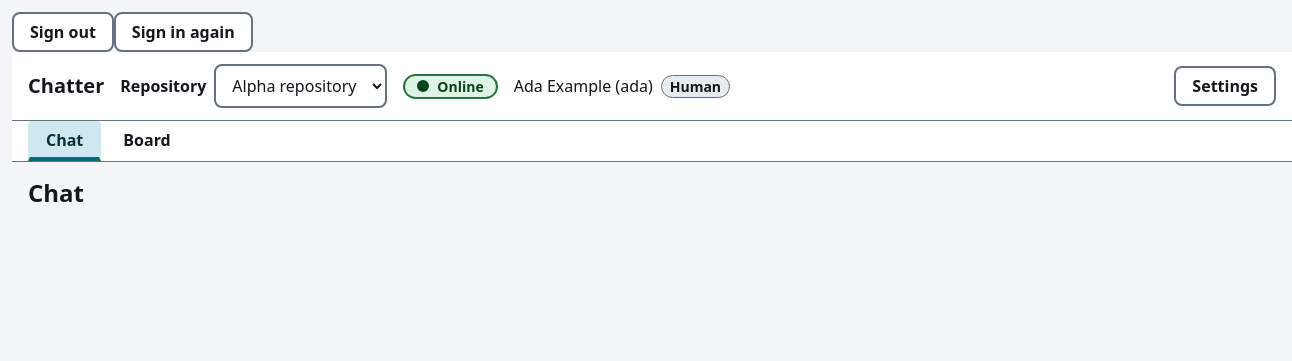
Test case: a new sign-in in the same page › opens Chat without rendering, even once, the view the previous session had open
The width and height of the screenshot is (1292, 361).
Click the button "Board".
click(147, 141)  # box [105, 121, 189, 161]
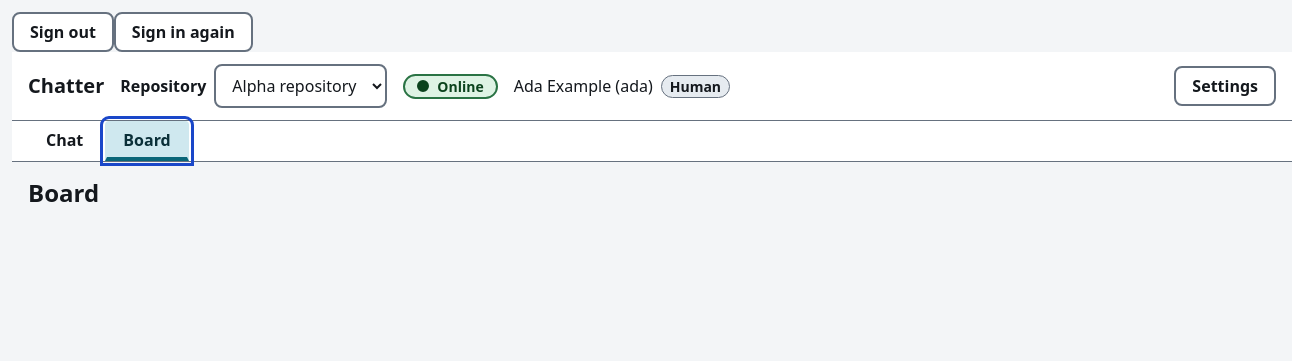
Expected: the heading reads "Board", [28, 176, 99, 209]
Click the button "Sign out".
click(63, 32)  # box [12, 12, 114, 52]
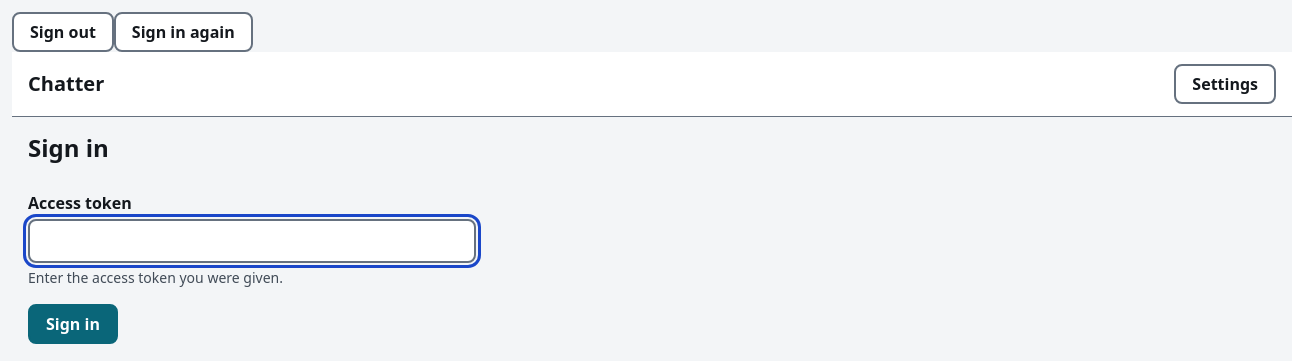
Expected: the heading reads "Sign in", [28, 131, 109, 164]
Click the button "Sign in again".
click(183, 32)  # box [114, 12, 253, 52]
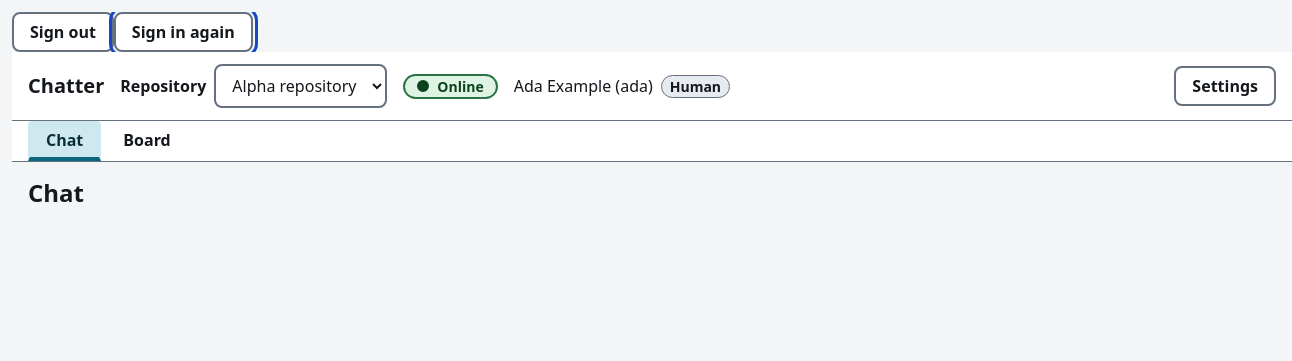
Expected: the heading reads "Chat", [28, 176, 84, 209]
